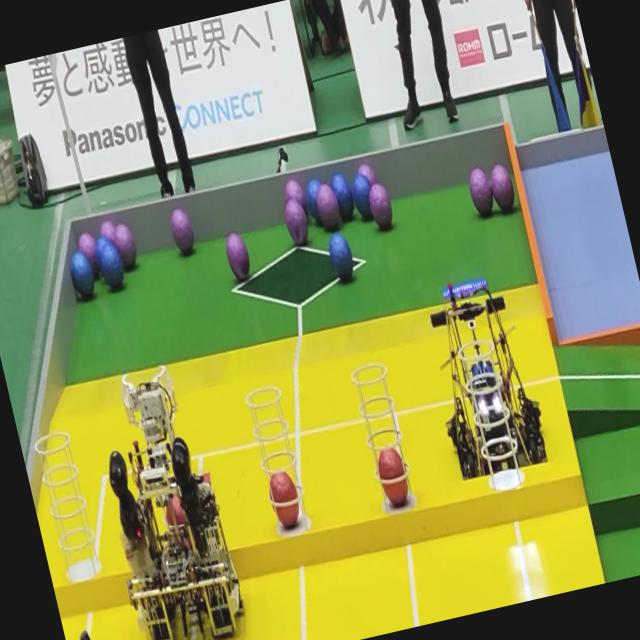blue_ball: (326, 232, 358, 288), (97, 243, 129, 298), (68, 257, 98, 305), (332, 171, 358, 219), (349, 173, 373, 220), (92, 236, 114, 274), (305, 180, 320, 221)
purple_ball: (222, 228, 254, 284), (166, 205, 199, 259), (281, 198, 313, 252), (466, 166, 497, 220), (486, 160, 518, 212), (367, 188, 397, 235), (113, 220, 140, 270), (281, 178, 310, 222), (314, 188, 343, 229), (82, 232, 100, 278), (97, 218, 117, 240), (360, 163, 375, 182)
red_ball: (265, 466, 306, 532), (372, 444, 413, 508)
